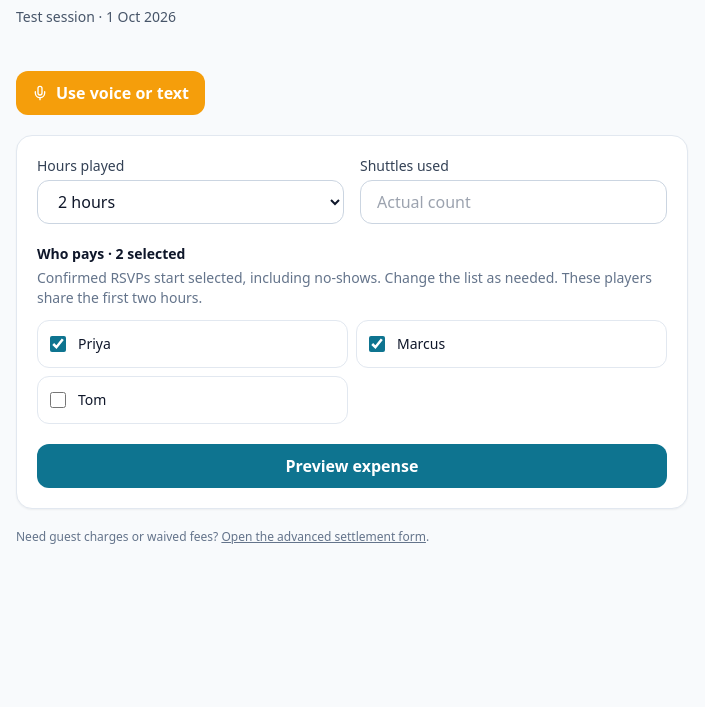
Test: Expense form › previews without saving and confirms exactly the returned input
Select "3 hours" in the dropdown labelled "Hours played" at x=190, y=202, box [37,180,344,224]
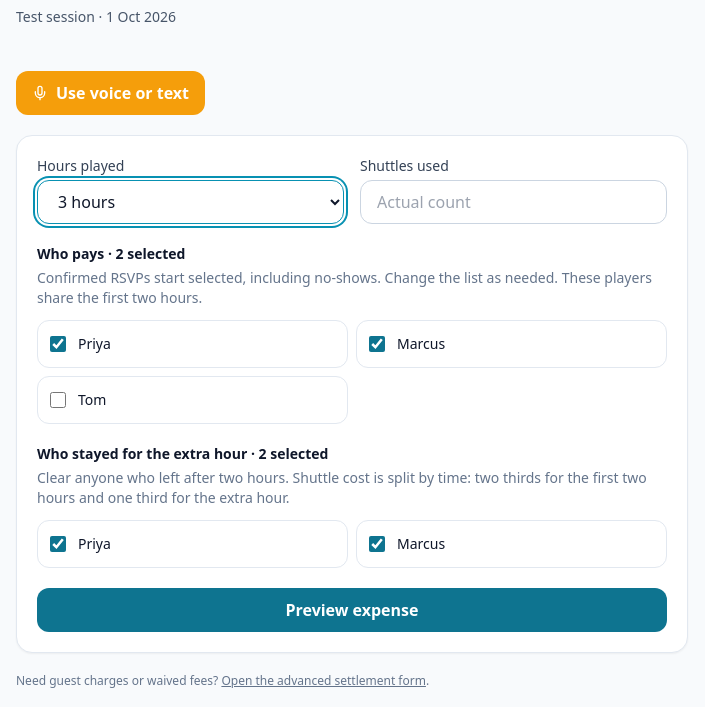
Type "8" into the number field labelled "Shuttles used" at x=514, y=202, box [360,180,667,224]
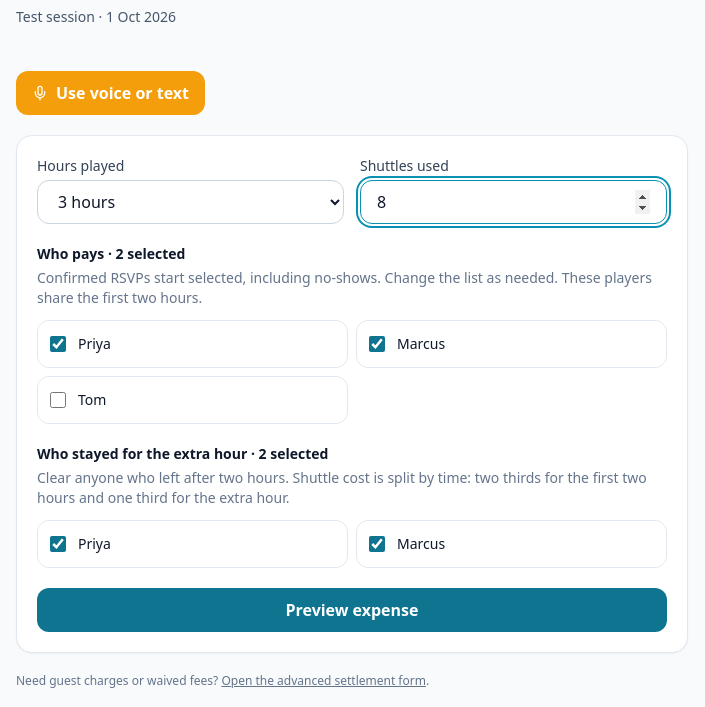
Click the button "Preview expense" at x=352, y=610, box [37,588,667,632]
(page scrolled)
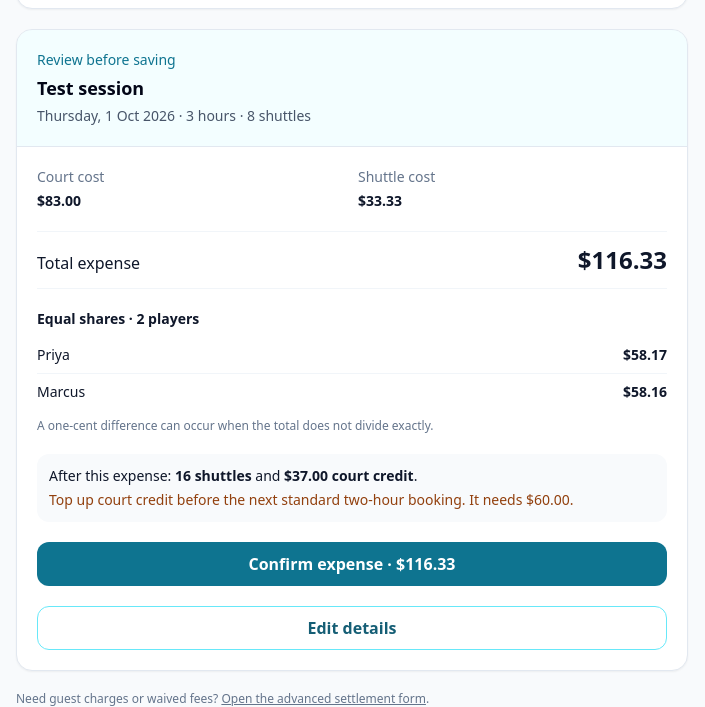
expect the element named "Expense preview" is shown: met
Click the button "Confirm expense · $116.33" at x=352, y=564, box [37,542,667,586]
(page scrolled)
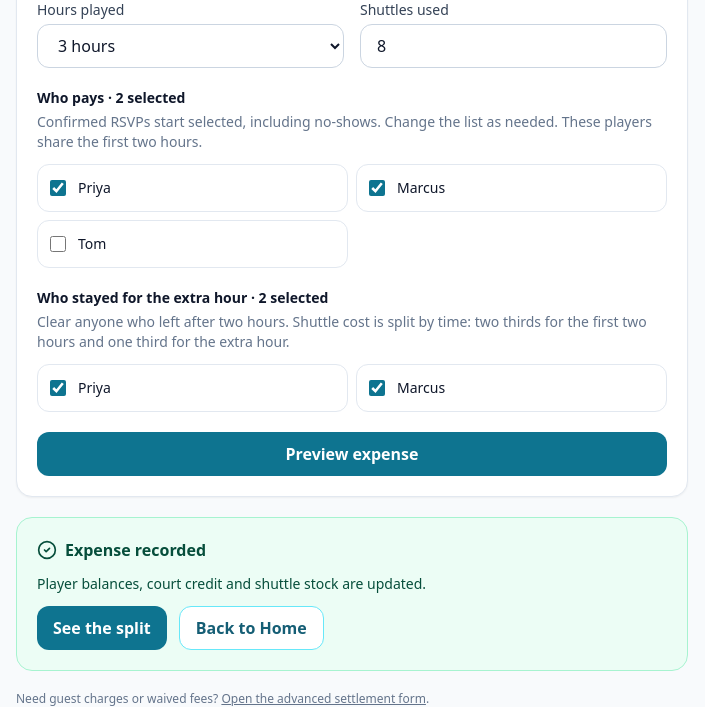
expect the text "Expense recorded" is shown: met, box [37,539,206,561]
